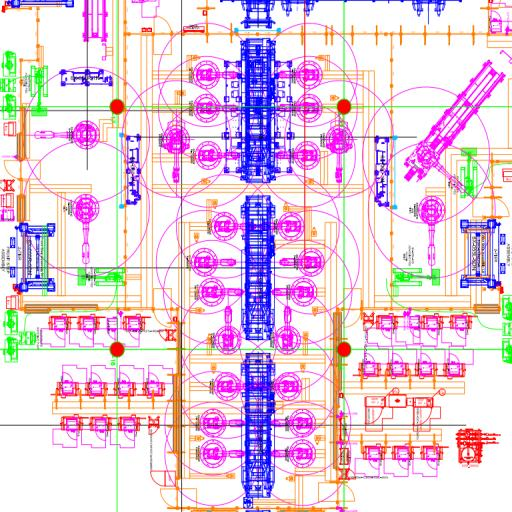robot: (404, 139, 472, 200), (28, 117, 104, 151), (69, 193, 104, 263), (159, 119, 191, 184), (325, 122, 356, 186), (272, 92, 324, 124), (210, 210, 255, 246), (276, 60, 328, 90), (190, 92, 242, 122), (194, 139, 241, 172), (198, 438, 246, 469), (189, 246, 236, 277), (268, 408, 316, 438), (192, 59, 239, 89), (268, 441, 317, 469), (262, 211, 306, 241), (274, 140, 321, 168), (214, 308, 242, 355), (280, 248, 326, 276), (212, 372, 258, 400), (275, 306, 301, 352), (200, 410, 244, 437), (199, 278, 241, 306), (271, 280, 317, 305), (262, 373, 304, 400)
